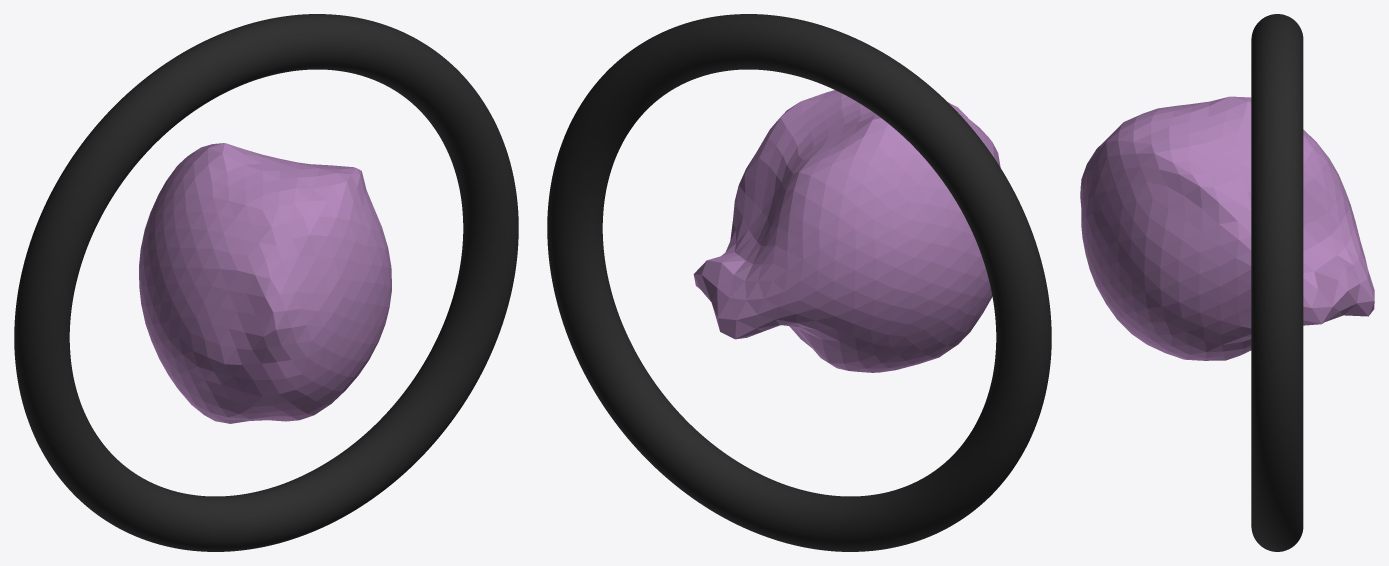
3 views of the same model, side by side, from view 1: azimuth 30°, elevation 25°; view 2: azimuth 150°, elevation 25°; view 3: azimuth 270°, elevation 25° (orthographic). The views are drawn at different scales.
Visible parts, largest first — view 1: fixed_CAD_Ring, polyp_body_inferred_base_gray; view 2: fixed_CAD_Ring, polyp_body_inferred_base_gray; view 3: polyp_body_inferred_base_gray, fixed_CAD_Ring.
Boxes of the visible parts, bbox=[...] form: fixed_CAD_Ring: bbox=[14, 14, 518, 551]; polyp_body_inferred_base_gray: bbox=[139, 143, 391, 423]; fixed_CAD_Ring: bbox=[547, 14, 1051, 551]; polyp_body_inferred_base_gray: bbox=[693, 90, 1000, 372]; polyp_body_inferred_base_gray: bbox=[1080, 96, 1374, 360]; fixed_CAD_Ring: bbox=[1251, 14, 1303, 551].
Bounding box in the file's own units: 0.0124 × 0.0124 × 0.00678.
